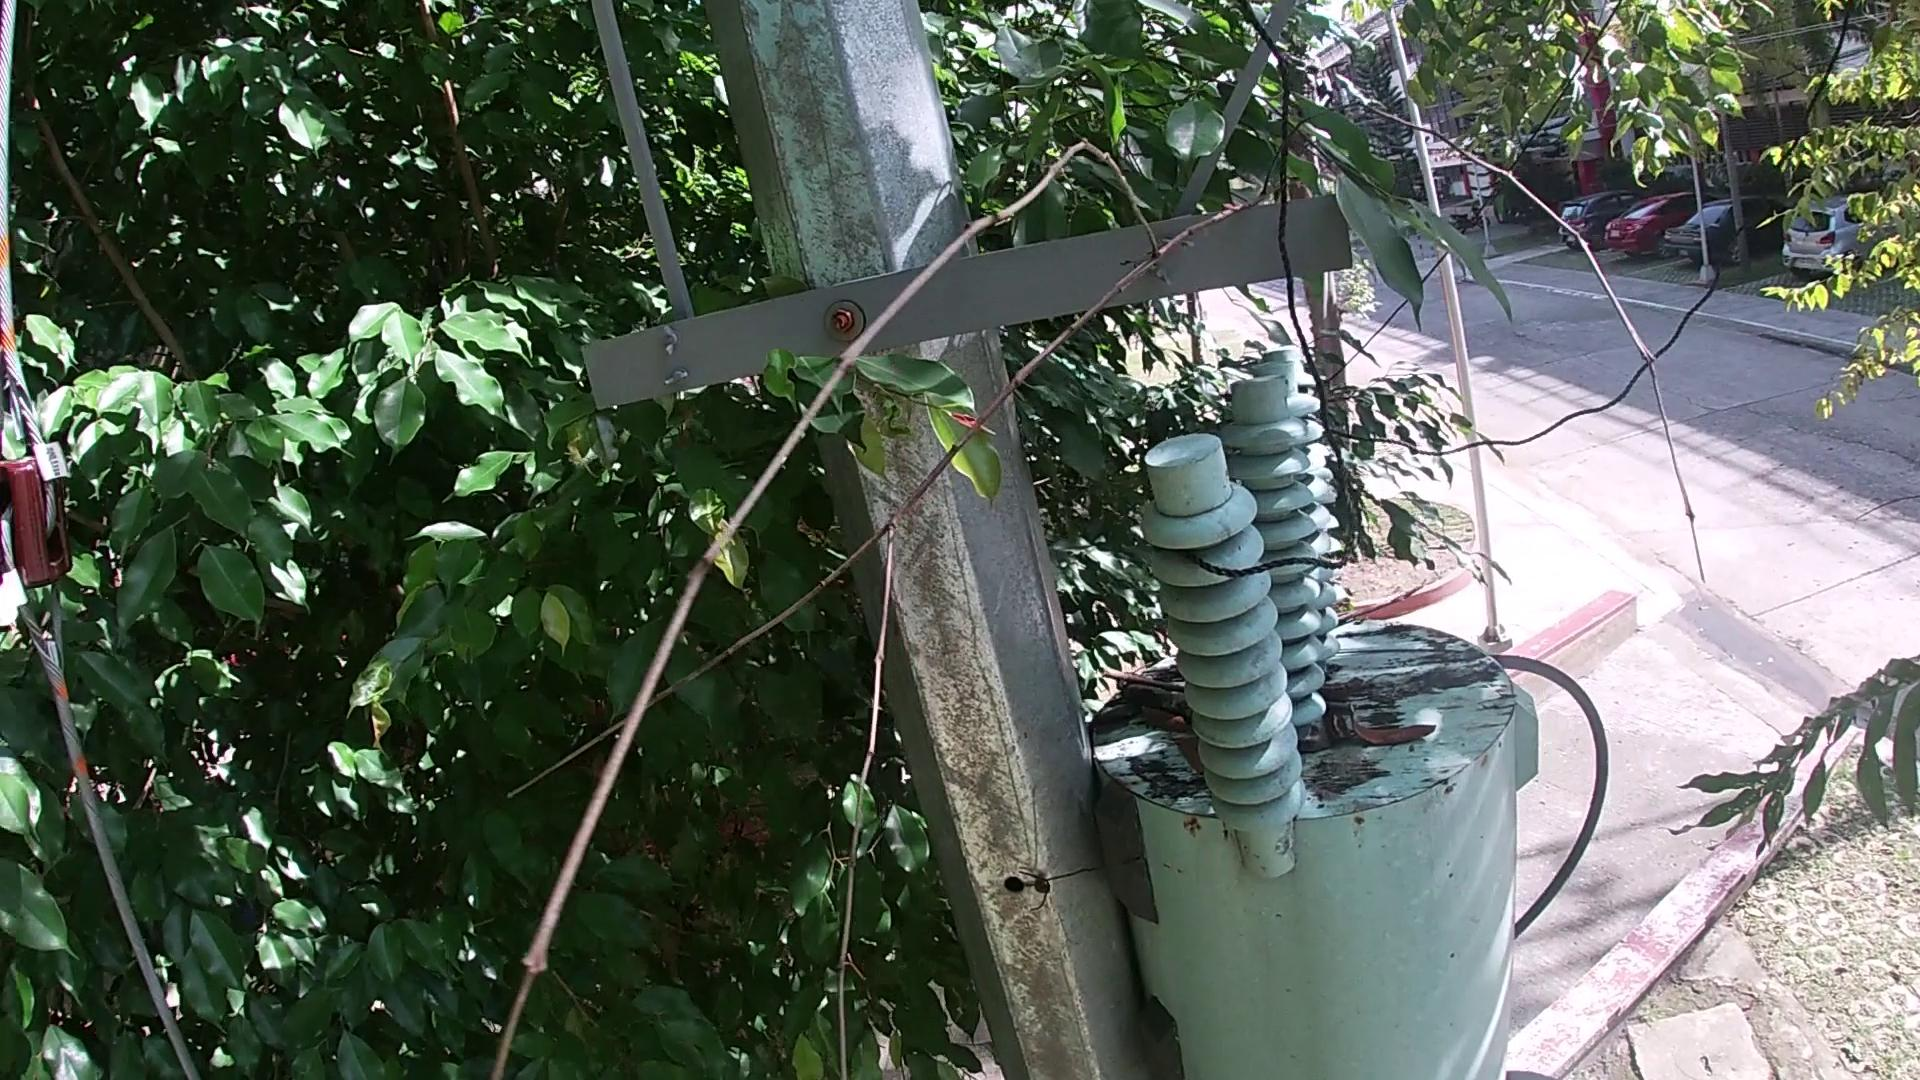leaf: (1338, 694, 1448, 754), (1162, 727, 1207, 774), (1139, 702, 1191, 735)
tree branch: (468, 90, 1730, 1079), (1332, 578, 1431, 634), (1097, 670, 1191, 717)
